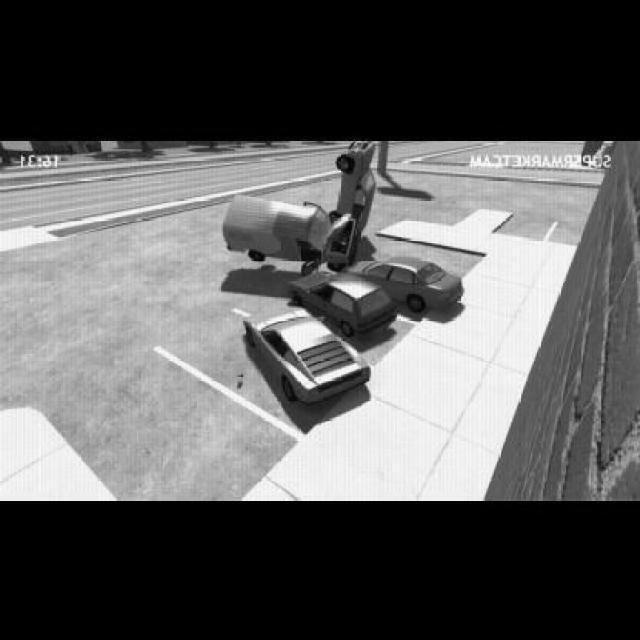accident: (220, 140, 378, 270)
vehicle: (237, 299, 375, 407), (342, 244, 467, 318), (292, 266, 394, 338)
